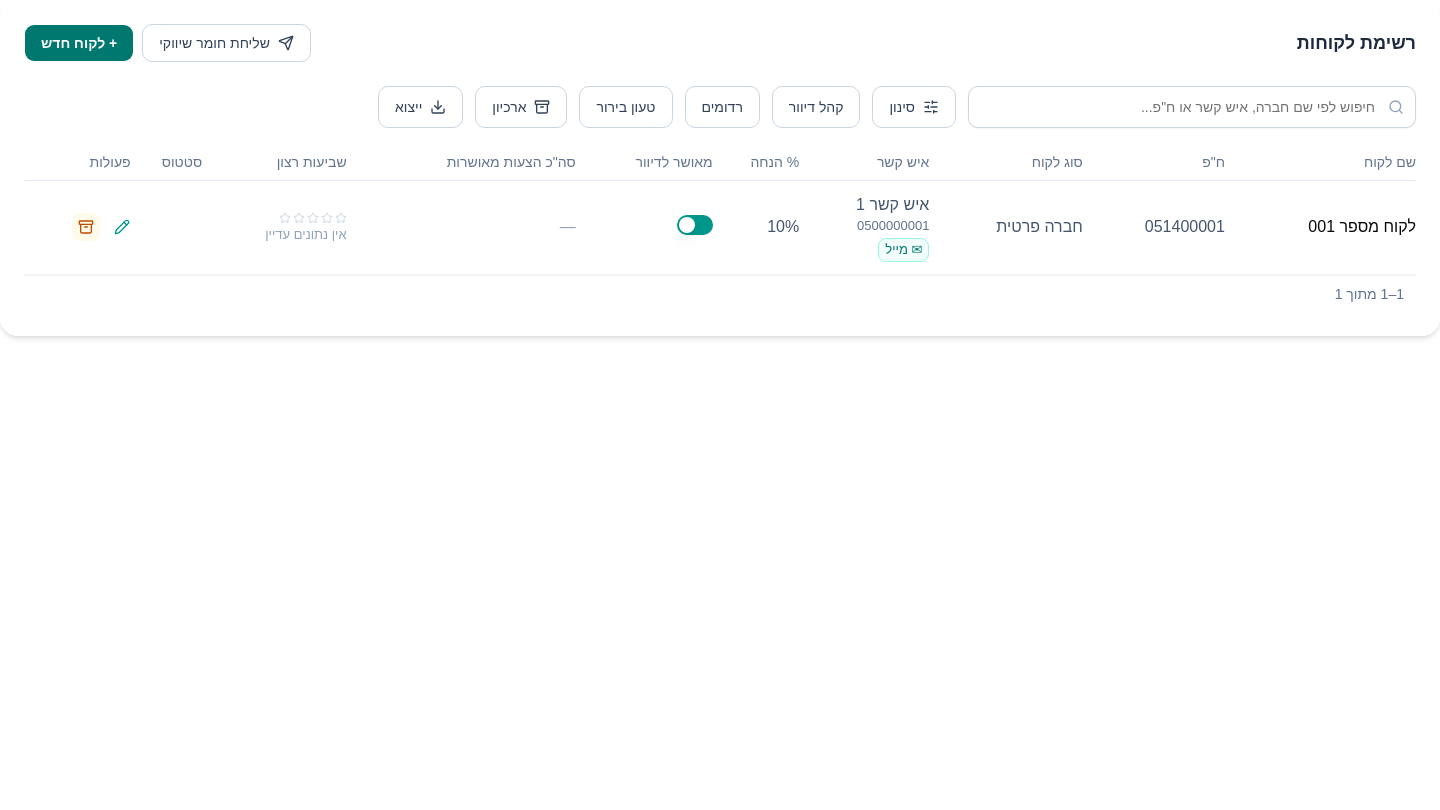
Test: CustomersPage — חיבור לחלון-הייצוא › 🔴 נגזרת מגיעה לקובץ עם הערך שהטבלה מציגה — סוג-לקוח בעברית, לא ערך-enum
This screenshot has width=1440, height=810.
Click the button with test id "customers-export-button" at {"x": 421, "y": 107}, box [378,86,463,128]
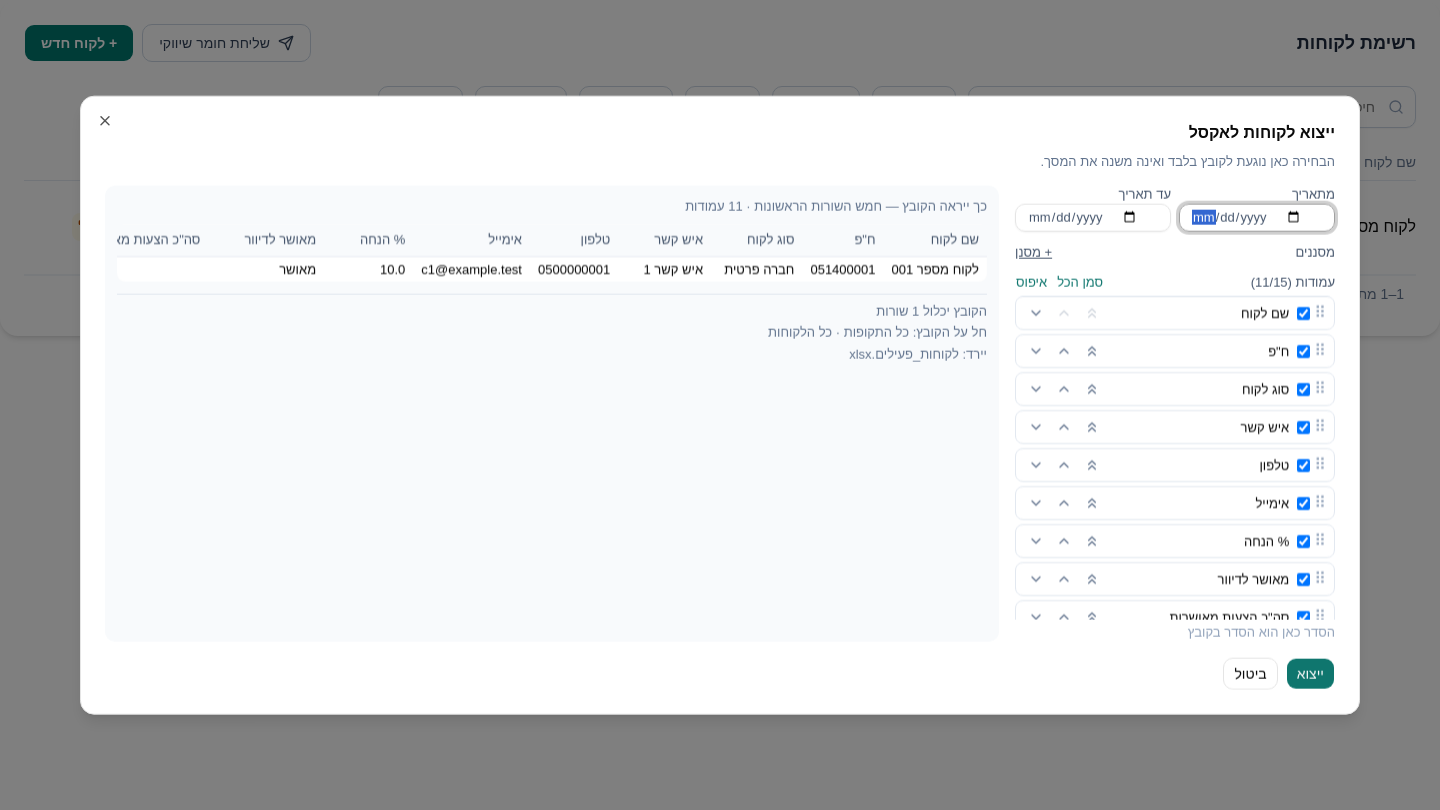
Now the text "חברה פרטית" is shown, box [724,261,794,276]
